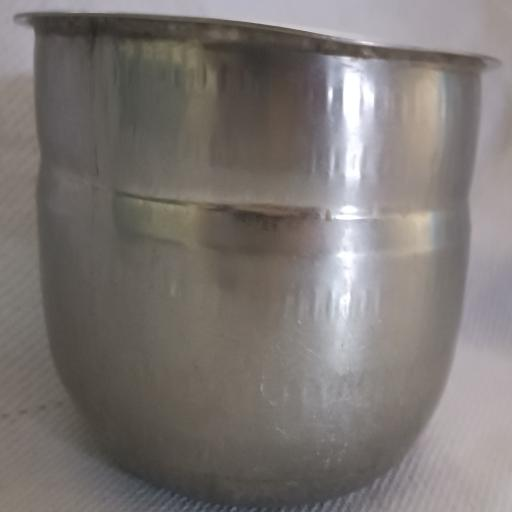vessel: (17, 13, 494, 501)
